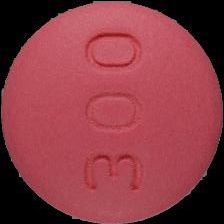50436-6942: (0, 0, 224, 224)
